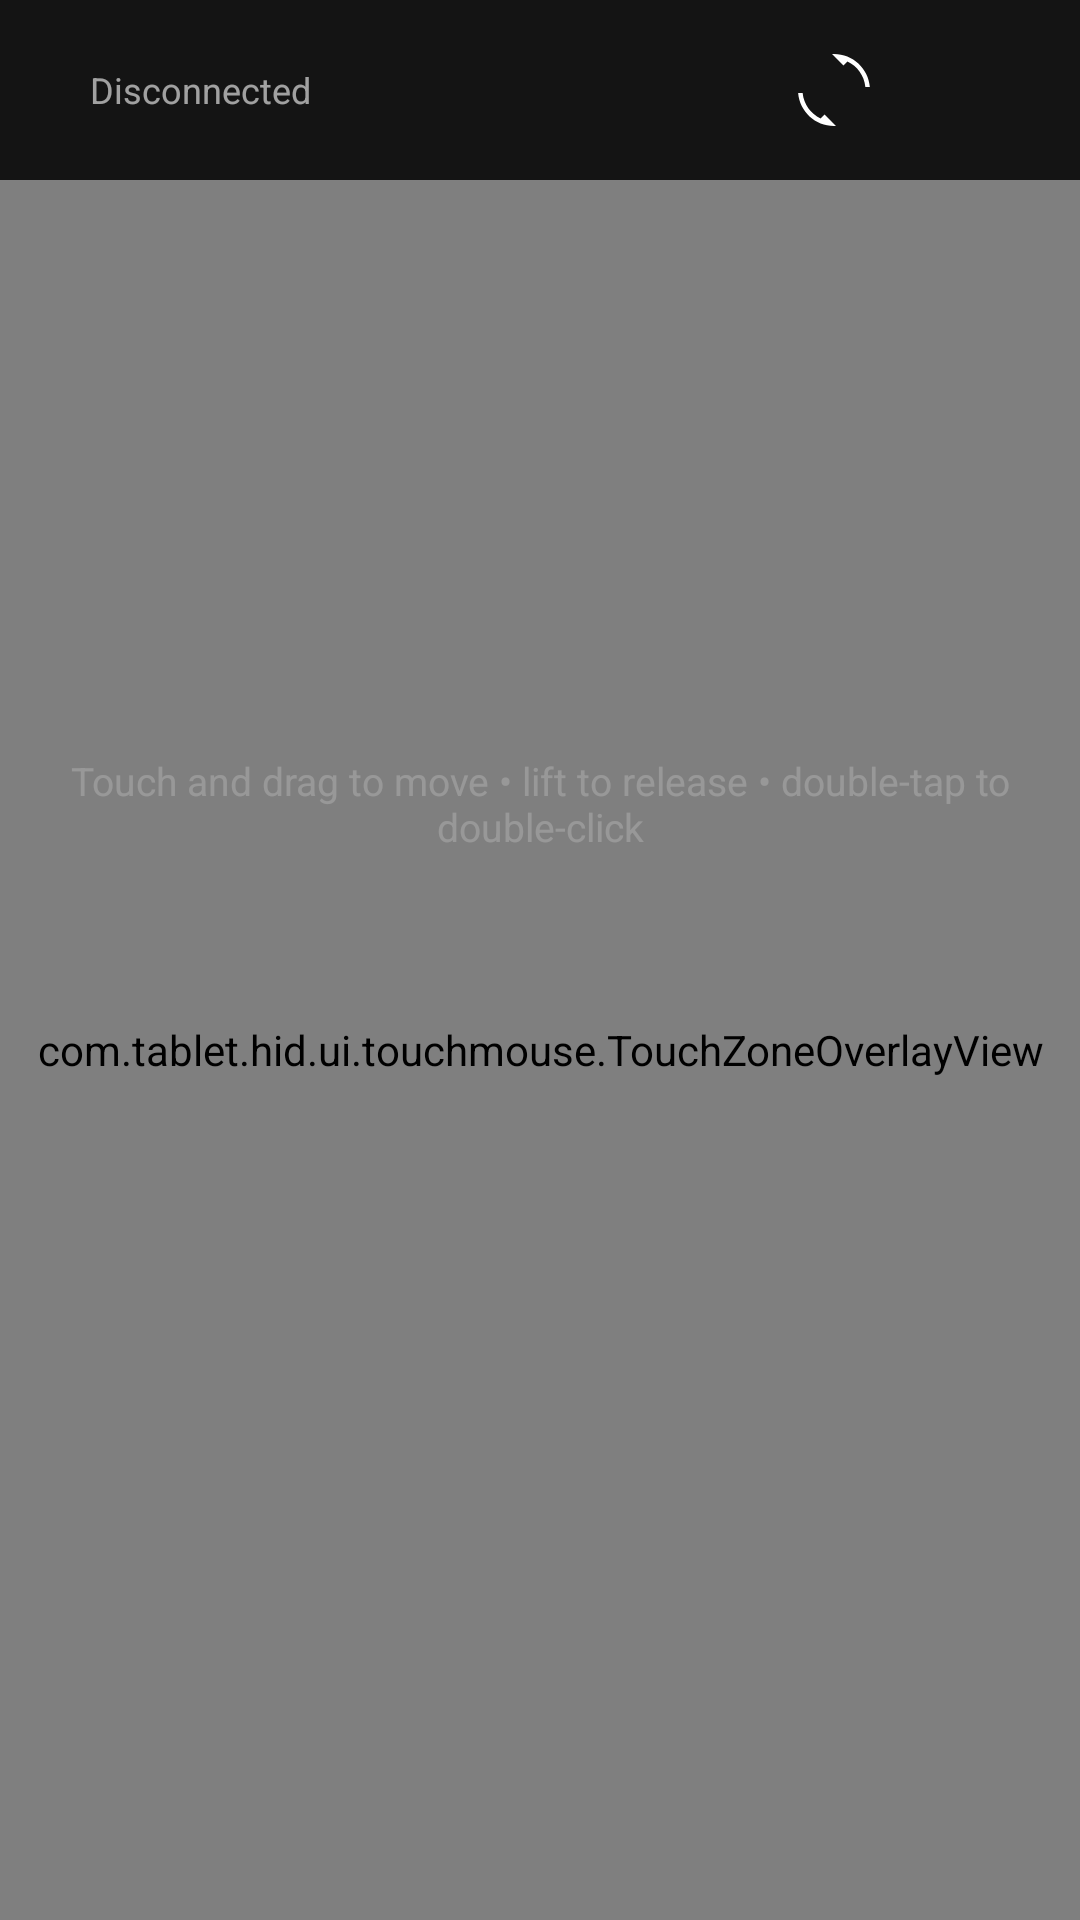

Where icons sit on this 1080px x 1920px app screen, as (x1, y1, x2, y2):
Orientation Lock: (798, 54, 870, 126)
